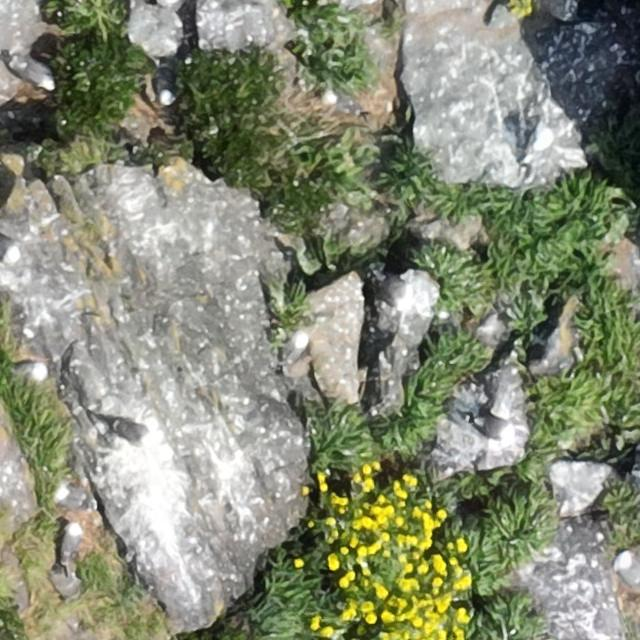umineko: (321, 90, 366, 118), (524, 128, 554, 166), (13, 58, 53, 86), (103, 420, 149, 442), (469, 415, 509, 436), (57, 487, 91, 508), (284, 334, 308, 363), (13, 361, 47, 379), (63, 525, 81, 558), (157, 76, 174, 105), (1, 236, 17, 258)
